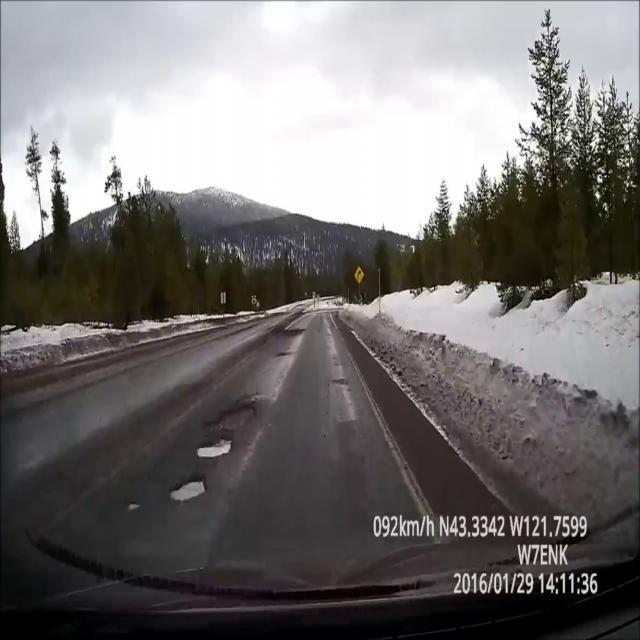pothole: (203, 404, 259, 432), (168, 477, 210, 504), (198, 439, 235, 459), (287, 328, 307, 335), (275, 352, 292, 356)
